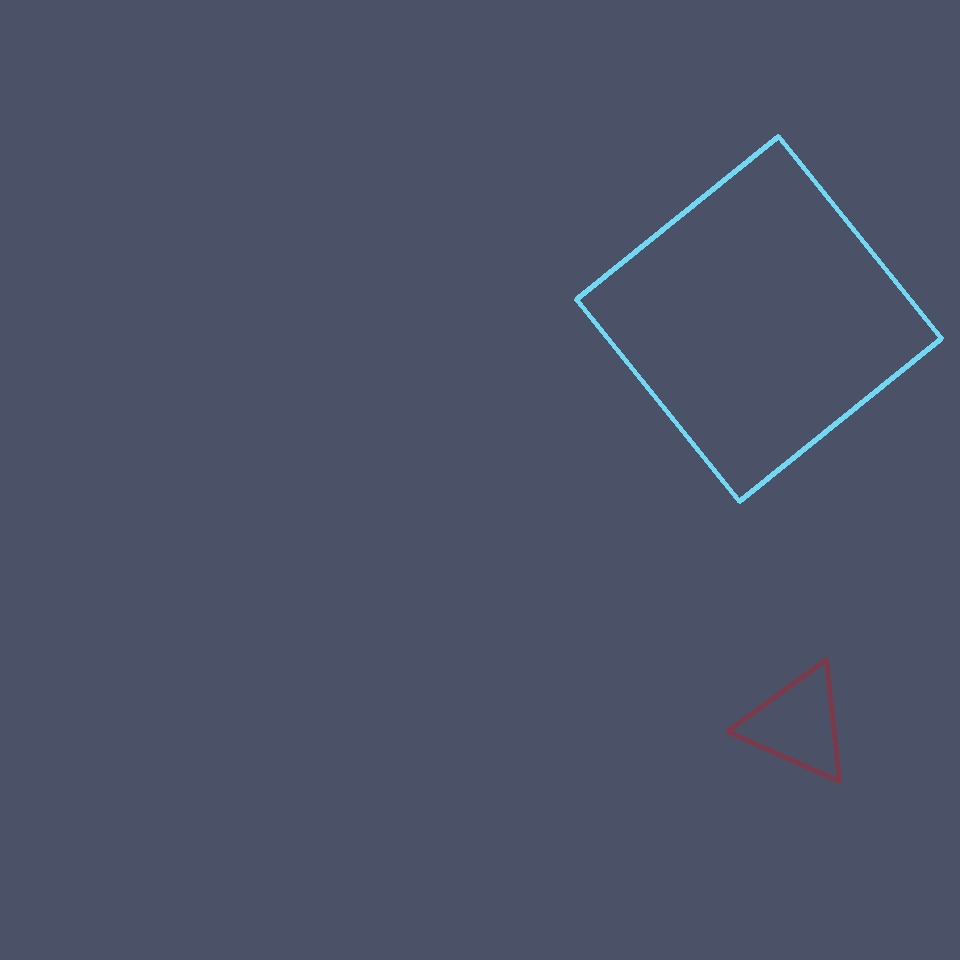circle: (742, 663, 854, 785)
square: (576, 136, 942, 501)
